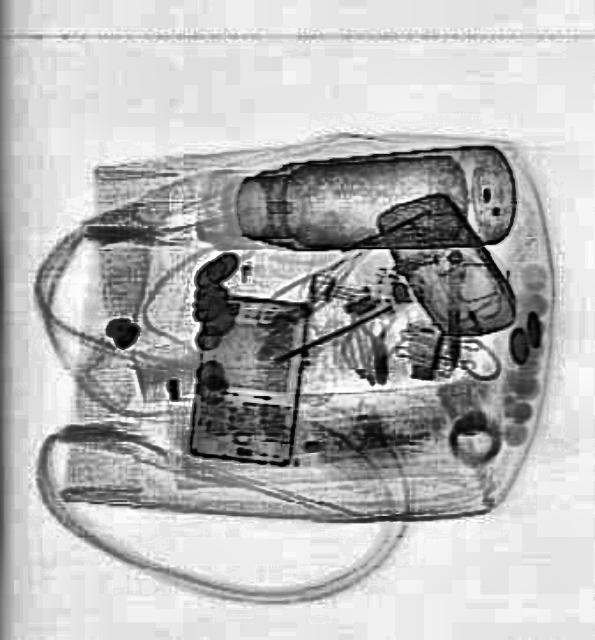Knife: (439, 262, 460, 366)
